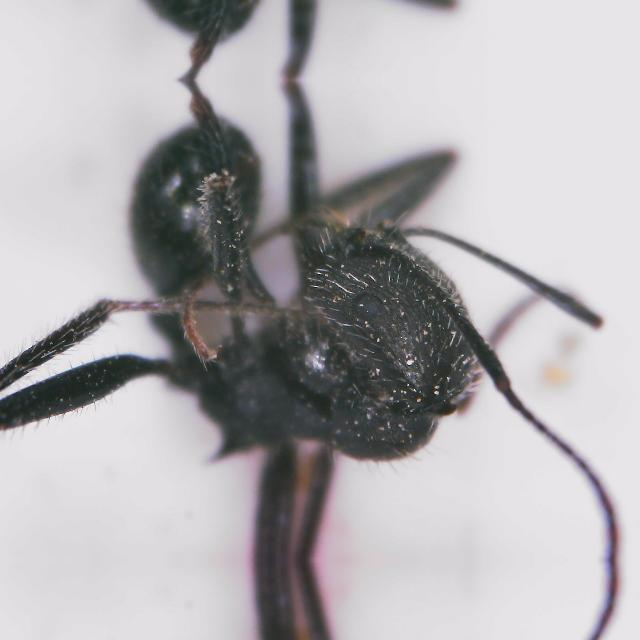Apheanogaster: (45, 82, 565, 536)
